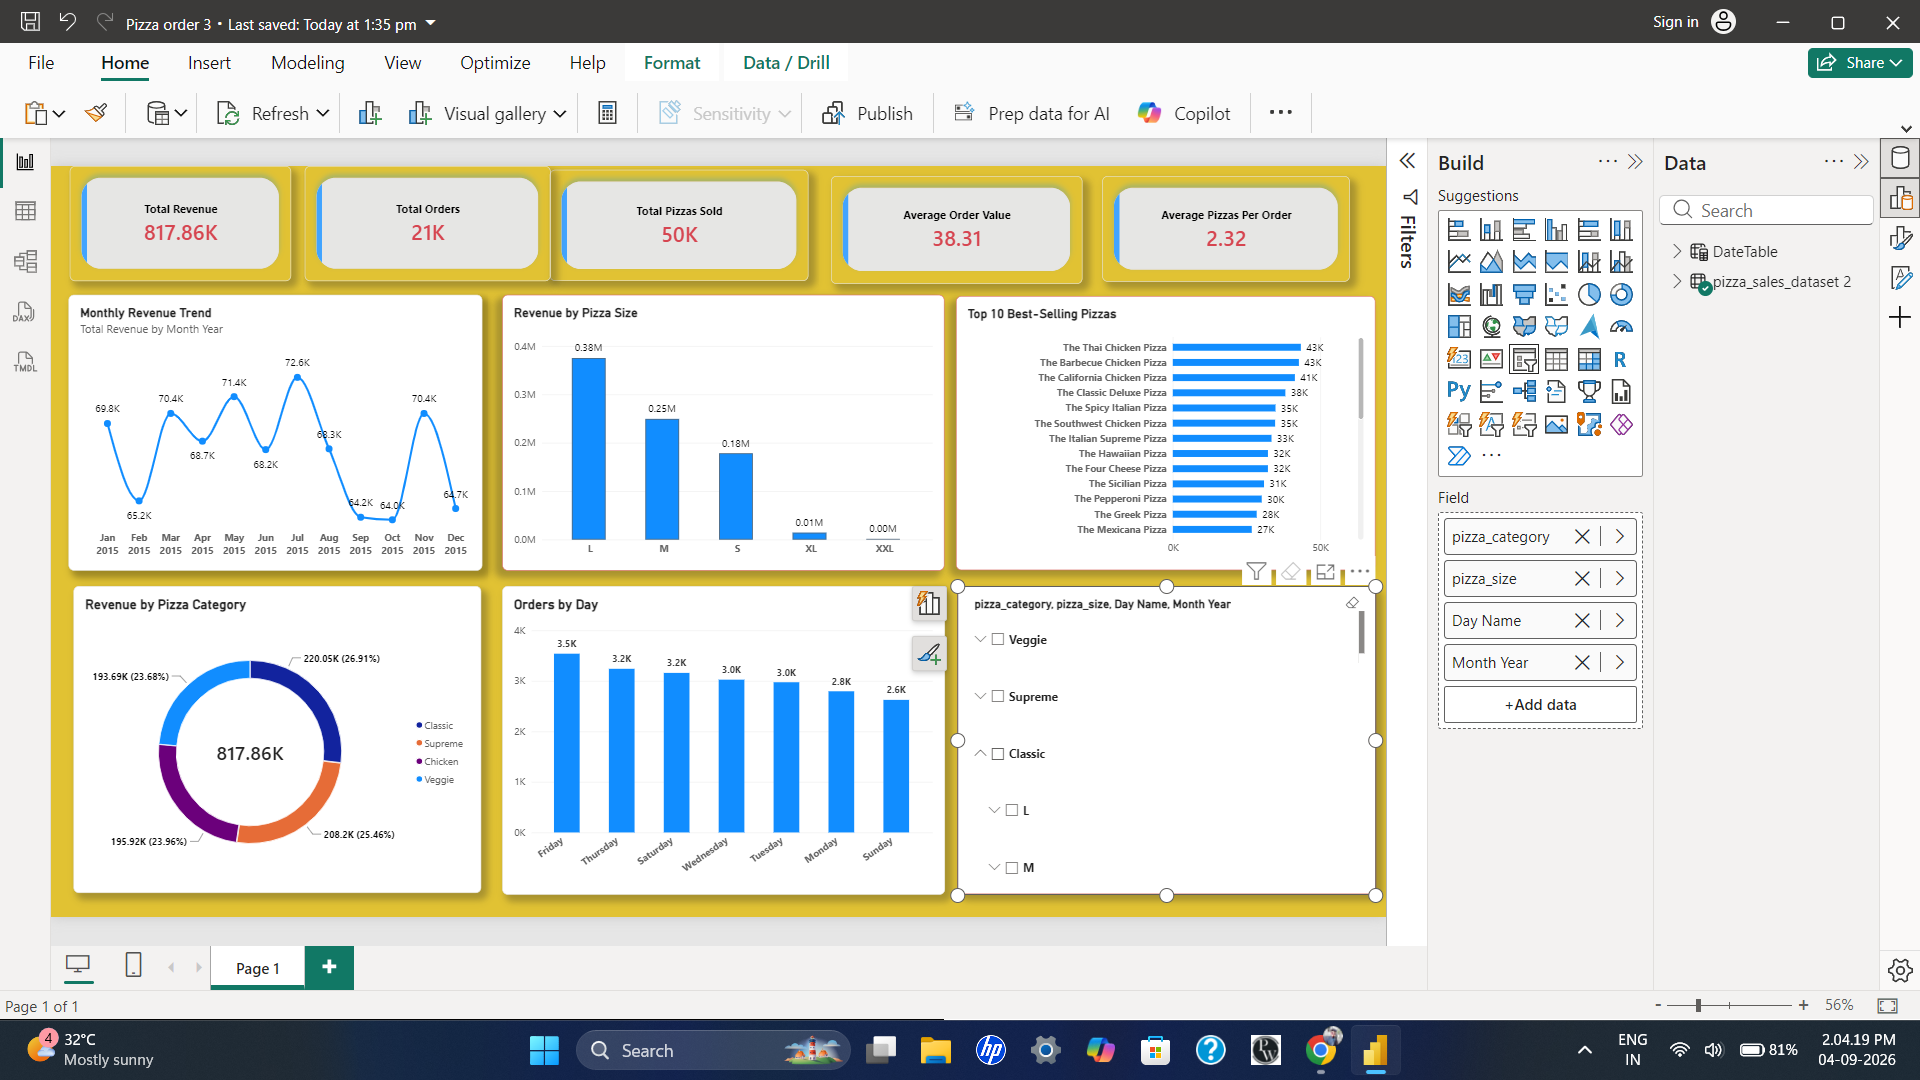

Layout of this report page (visuals, bound fields, positions):
{"tool":"powerbi","page":{"name":"Page 1","canvas":[1920,1080],"ordinal":0},"visuals":[{"type":"cardVisual","fields":{"Data":["pizza_sales_dataset 2.Total Revenue"]},"box":[27.2,0,318,165.8],"z":0},{"type":"cardVisual","fields":{"Data":["pizza_sales_dataset 2.Total Pizzas Sold"]},"box":[717.6,5.4,372.4,160.4],"z":1000},{"type":"cardVisual","fields":{"Data":["pizza_sales_dataset 2.Total Orders"]},"box":[364.2,0,353.3,165.8],"z":2000},{"type":"cardVisual","fields":{"Data":["pizza_sales_dataset 2.Average Order Value"]},"box":[1122.6,13.6,361.5,154.9],"z":3000},{"type":"cardVisual","fields":{"Data":["pizza_sales_dataset 2.Average Pizzas Per Order"]},"box":[1511.2,13.6,356.1,152.2],"z":4000},{"type":"lineChart","title":"Monthly Revenue Trend","fields":{"Y":["pizza_sales_dataset 2.Total Revenue"],"Category":["pizza_sales_dataset 2.Month Year"]},"box":[24.5,184.8,595.3,396.8],"z":5000},{"type":"donutChart","title":"Revenue by Pizza Category","fields":{"Category":["pizza_sales_dataset 2.pizza_category"],"Y":["pizza_sales_dataset 2.Total Revenue"]},"box":[32.5,603.8,586.5,441.5],"z":6000},{"type":"clusteredColumnChart","title":"Revenue by Pizza Size","fields":{"Category":["pizza_sales_dataset 2.pizza_size"],"Y":["pizza_sales_dataset 2.Total Revenue"]},"box":[649.6,184.8,636,396.8],"z":7000},{"type":"barChart","title":"Top 10 Best-Selling Pizzas","fields":{"Category":["pizza_sales_dataset 2.pizza_name"],"Y":["pizza_sales_dataset 2.Total Revenue"]},"box":[1301.9,187.5,603.4,394.1],"z":8000},{"type":"columnChart","title":"Orders by Day","fields":{"Category":["pizza_sales_dataset 2.Day Name"],"Y":["pizza_sales_dataset 2.Total Orders"]},"box":[649.3,604.4,636.4,444.2],"z":9000},{"type":"slicer","fields":{"Values":["pizza_sales_dataset 2.pizza_category","pizza_sales_dataset 2.pizza_size","pizza_sales_dataset 2.Day Name","pizza_sales_dataset 2.Month Year"]},"box":[1303,604.4,602.6,443.4],"z":10000}]}

Visuals, with their boxes on the page's 1920x1080 design canvas (x1, y1, x2, y2). These are canvas units, not pixel positions in the 1920x1080 screenshot, which may show the page scaled, cropped or inside an application window:
cardVisual - pizza_sales_dataset 2.Total Revenue: (left=27, top=0, right=345, bottom=166)
cardVisual - pizza_sales_dataset 2.Total Pizzas Sold: (left=718, top=5, right=1090, bottom=166)
cardVisual - pizza_sales_dataset 2.Total Orders: (left=364, top=0, right=718, bottom=166)
cardVisual - pizza_sales_dataset 2.Average Order Value: (left=1123, top=14, right=1484, bottom=168)
cardVisual - pizza_sales_dataset 2.Average Pizzas Per Order: (left=1511, top=14, right=1867, bottom=166)
"Monthly Revenue Trend" lineChart: (left=24, top=185, right=620, bottom=582)
"Revenue by Pizza Category" donutChart: (left=32, top=604, right=619, bottom=1045)
"Revenue by Pizza Size" clusteredColumnChart: (left=650, top=185, right=1286, bottom=582)
"Top 10 Best-Selling Pizzas" barChart: (left=1302, top=188, right=1905, bottom=582)
"Orders by Day" columnChart: (left=649, top=604, right=1286, bottom=1049)
slicer - pizza_sales_dataset 2.pizza_category x pizza_sales_dataset 2.pizza_size: (left=1303, top=604, right=1906, bottom=1048)
